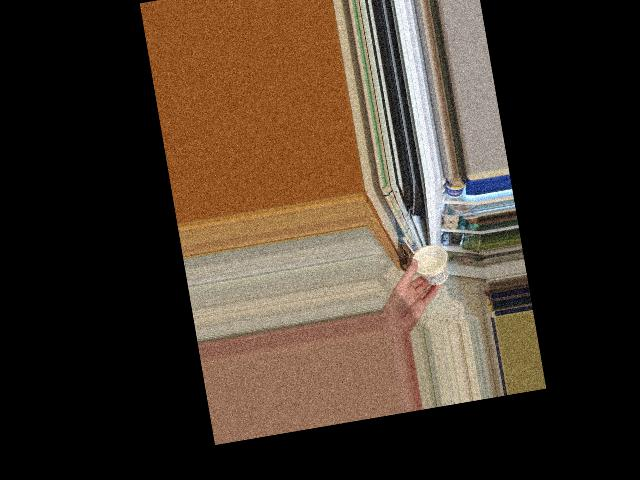cotage: (411, 245, 449, 288)
